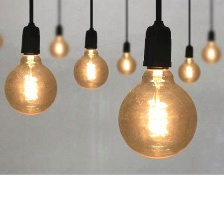light_bulb: (114, 55, 200, 164), (0, 47, 61, 117), (69, 34, 111, 94), (112, 45, 141, 78), (176, 51, 203, 86), (47, 24, 72, 61), (202, 35, 221, 64)
